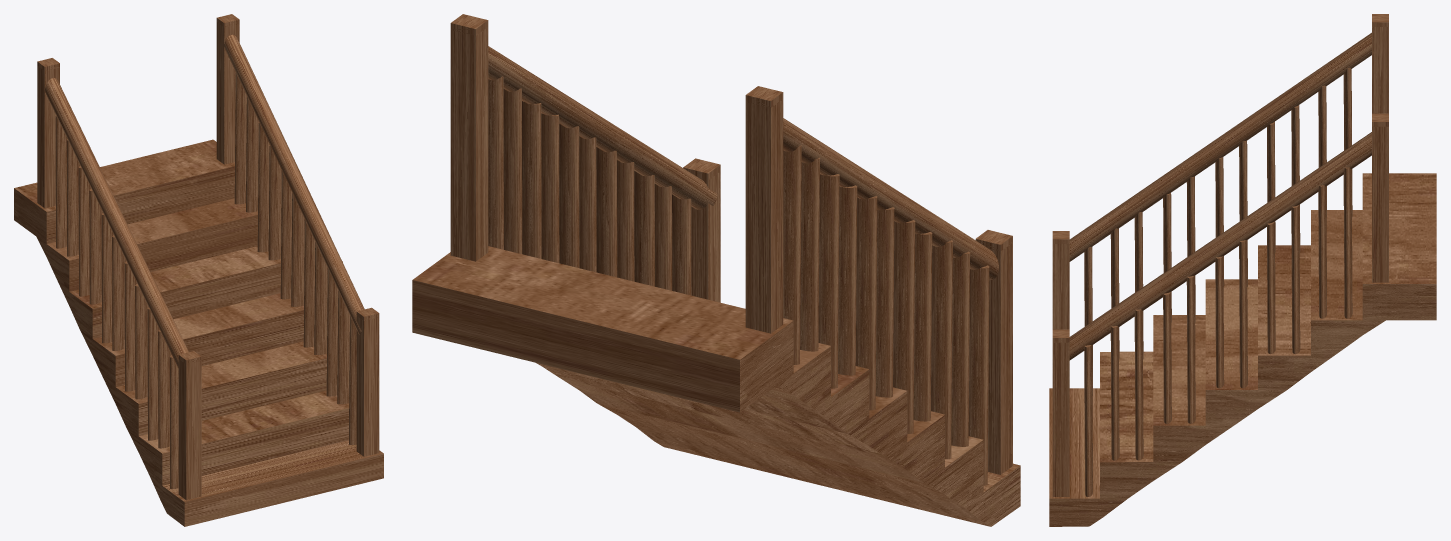
Rendered from Stairs.fbx.
3 renders of one model, left to right at view 1: azimuth 30°, elevation 25°; view 2: azimuth 150°, elevation 25°; view 3: azimuth 270°, elevation 25°, orthographic. The views are drawn at different scales.
Visible parts, largest first — view 1: Stairs, pCylinder1, pasted__pCube2, pCube2, pCylinder6, pCylinder4, pCylinder10, pCylinder3, pCylinder7, pCylinder9, pCylinder2, pCylinder8 (+3 smaller); view 2: Stairs, pCube2, pCylinder1, pasted__pCube2, pCylinder4, pCylinder2, pCylinder5, pCylinder8, pCylinder3, pCylinder10, pCylinder6, pCylinder7 (+3 smaller); view 3: Stairs, pCylinder1, pasted__pCube2, pCube2, pCylinder6, pCylinder12, pCylinder2, pCylinder4, pCylinder10, pCylinder8, pCylinder9, pCylinder5 (+3 smaller).
Boxes of the visible parts, box(x1,y1,x2,y2) form: Stairs: box(14, 139, 383, 526); pCylinder1: box(45, 34, 364, 368); pasted__pCube2: box(178, 307, 379, 500); pCube2: box(37, 14, 239, 208); pCylinder6: box(55, 73, 246, 248); pCylinder4: box(78, 122, 269, 296); pCylinder10: box(147, 261, 342, 440); pCylinder3: box(89, 145, 281, 304); pCylinder7: box(112, 193, 304, 350); pCylinder9: box(135, 242, 327, 399); pCylinder2: box(101, 170, 292, 343); pCylinder8: box(124, 219, 315, 391); Stairs: box(412, 246, 1020, 526); pCube2: box(450, 14, 783, 333); pCylinder1: box(488, 46, 998, 280); pasted__pCube2: box(683, 158, 1012, 474); pCylinder4: box(522, 100, 839, 388); pCylinder2: box(559, 124, 877, 410); pCylinder5: box(503, 88, 819, 351); pCylinder8: box(596, 147, 915, 433); pCylinder3: box(541, 112, 857, 375); pCylinder10: box(634, 171, 952, 459); pCylinder6: box(488, 76, 801, 364); pCylinder7: box(579, 136, 894, 397); Stairs: box(1049, 173, 1436, 526); pCylinder1: box(1069, 32, 1371, 360); pasted__pCube2: box(1052, 231, 1069, 496); pCube2: box(1372, 14, 1388, 282); pCylinder6: box(1343, 67, 1352, 318); pCylinder12: box(1084, 247, 1092, 496); pCylinder2: box(1239, 140, 1247, 388); pCylinder4: box(1291, 105, 1300, 353); pCylinder10: box(1134, 212, 1143, 460); pCylinder8: box(1186, 176, 1195, 423); pCylinder9: box(1163, 193, 1171, 423); pCylinder5: box(1318, 85, 1326, 318).
Bounding box in the file's own units: 4.58 × 7.8 × 6.79.
